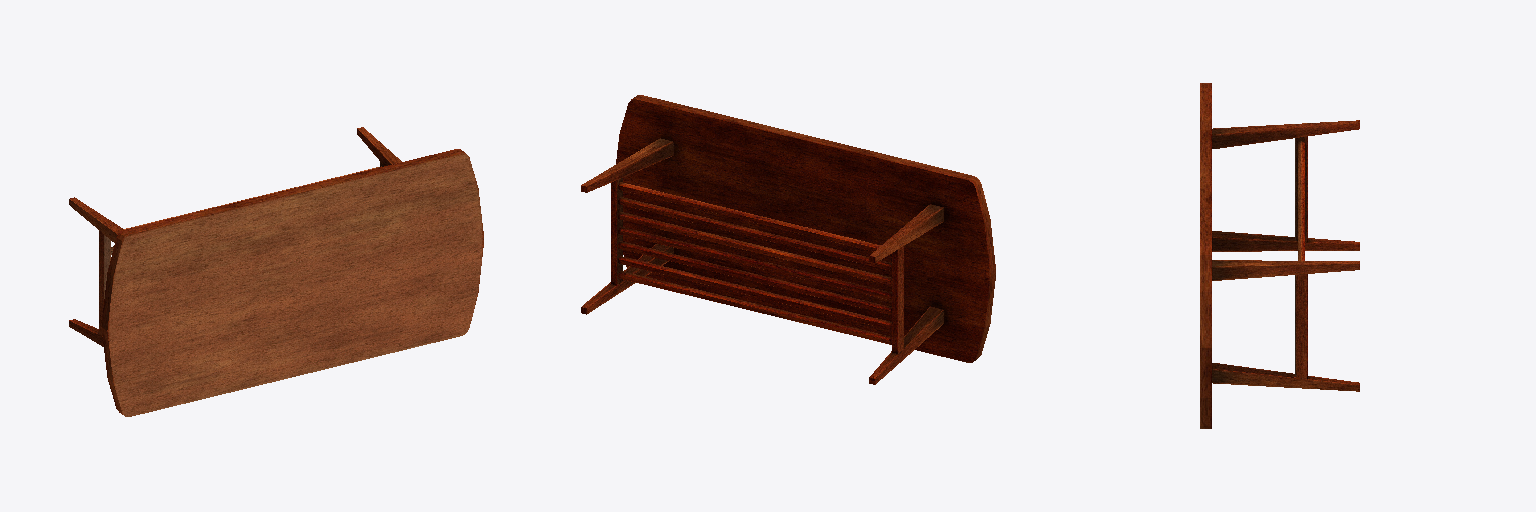
3 renders of one model, left to right at view 1: azimuth 30°, elevation 25°; view 2: azimuth 150°, elevation 25°; view 3: azimuth 270°, elevation 25°, orthographic.
Bounding box in the file's own units: 4.32 × 2 × 1.58.
1 materials, 1 textured.